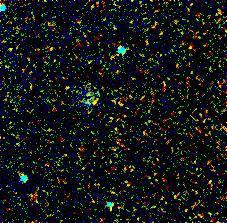star: (84, 89, 114, 119)
